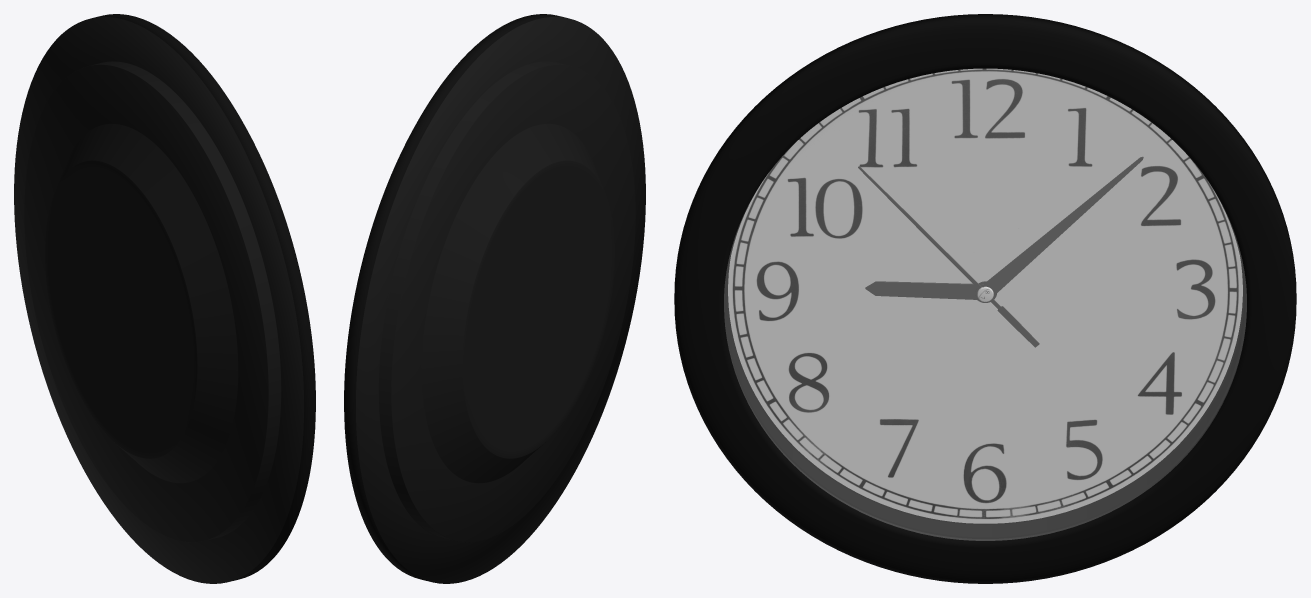
The model's file is clock.glb.
3 views of the same model, side by side, from view 1: azimuth 30°, elevation 25°; view 2: azimuth 150°, elevation 25°; view 3: azimuth 270°, elevation 25° (orthographic). The views are drawn at different scales.
Parts seen in each view (by area): view 1: Cover_10; view 2: Cover_10; view 3: Glass_11, Face_9, Cover_10, Minute Hand_7, Hour Hand_6, Second Hand_8.
Boxes of the visible parts, bbox=[...] form: Cover_10: bbox=[14, 14, 315, 583]; Cover_10: bbox=[344, 14, 645, 583]; Glass_11: bbox=[724, 69, 1246, 540]; Face_9: bbox=[728, 68, 1242, 523]; Cover_10: bbox=[674, 14, 1296, 583]; Minute Hand_7: bbox=[975, 156, 1143, 302]; Hour Hand_6: bbox=[865, 281, 996, 302]; Second Hand_8: bbox=[858, 166, 1039, 347].
Bounding box in the file's own units: 0.0315 × 0.278 × 0.278.
Materials: 5 (1 with a texture image).
